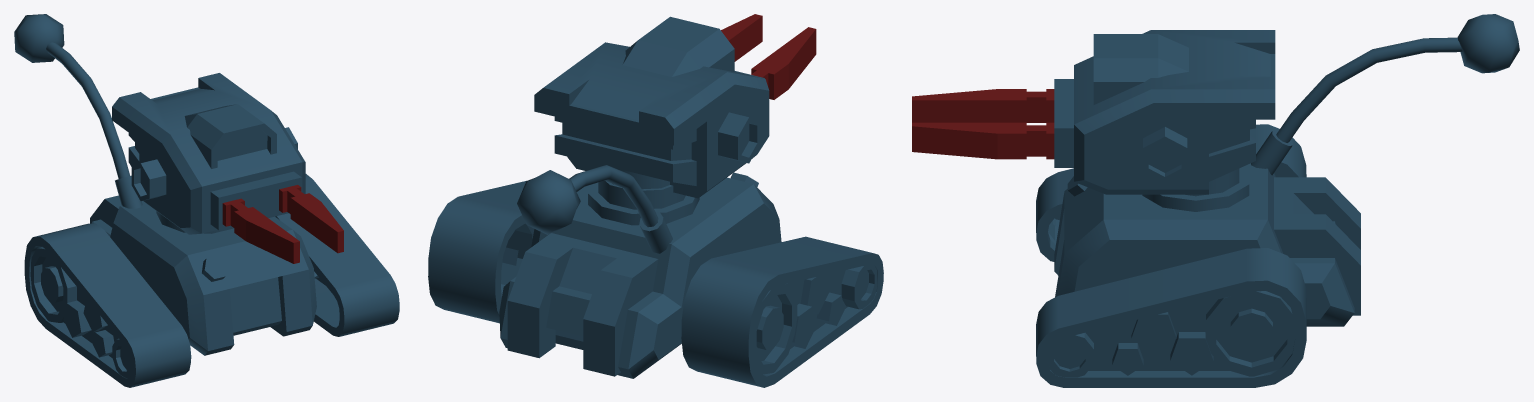
The model's file is SK_Drone (1).fbx.
The picture shows the model from 3 angles, left to right: view 1: azimuth 30°, elevation 25°; view 2: azimuth 150°, elevation 25°; view 3: azimuth 270°, elevation 25°; orthographic projection. The views are drawn at different scales.
Parts seen in each view (by area): view 1: Body, Head, Tooth; view 2: Body, Head, Tooth; view 3: Body, Head, Tooth.
Part boxes in pixels (x1,y1,x2,y2): Body: [14, 14, 399, 387]; Head: [112, 73, 305, 234]; Tooth: [222, 185, 343, 263]; Body: [428, 165, 883, 387]; Head: [534, 16, 769, 198]; Tooth: [721, 14, 816, 99]; Body: [1036, 14, 1519, 387]; Head: [1054, 30, 1275, 194]; Tooth: [912, 89, 1054, 159].
Size of the model in its own units: 84.11 by 67.87 by 138.
